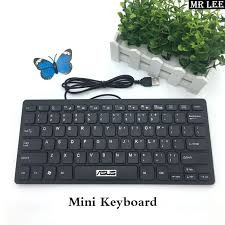keyboard: (14, 96, 214, 184)
